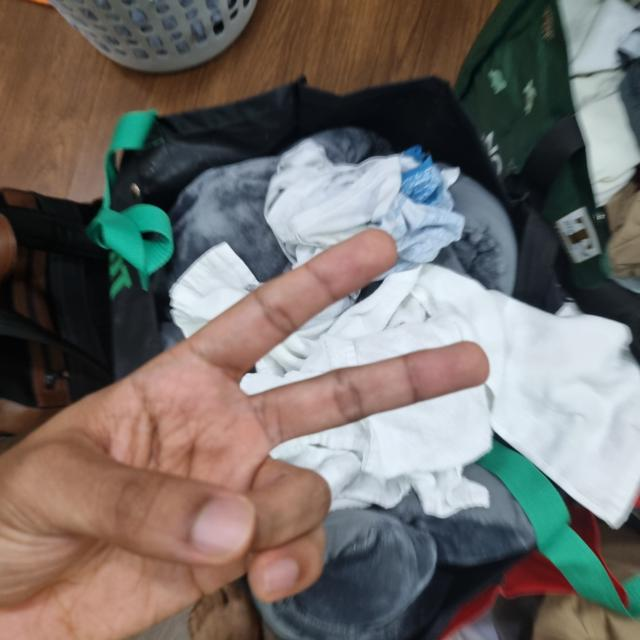Scissors: (0, 229, 490, 639)
